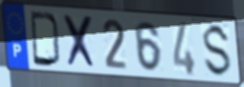2: (101, 18, 129, 72)
4: (172, 19, 198, 78)
6: (133, 19, 163, 73)
D: (28, 9, 63, 69)
S: (202, 22, 234, 80)
X: (61, 13, 98, 71)
